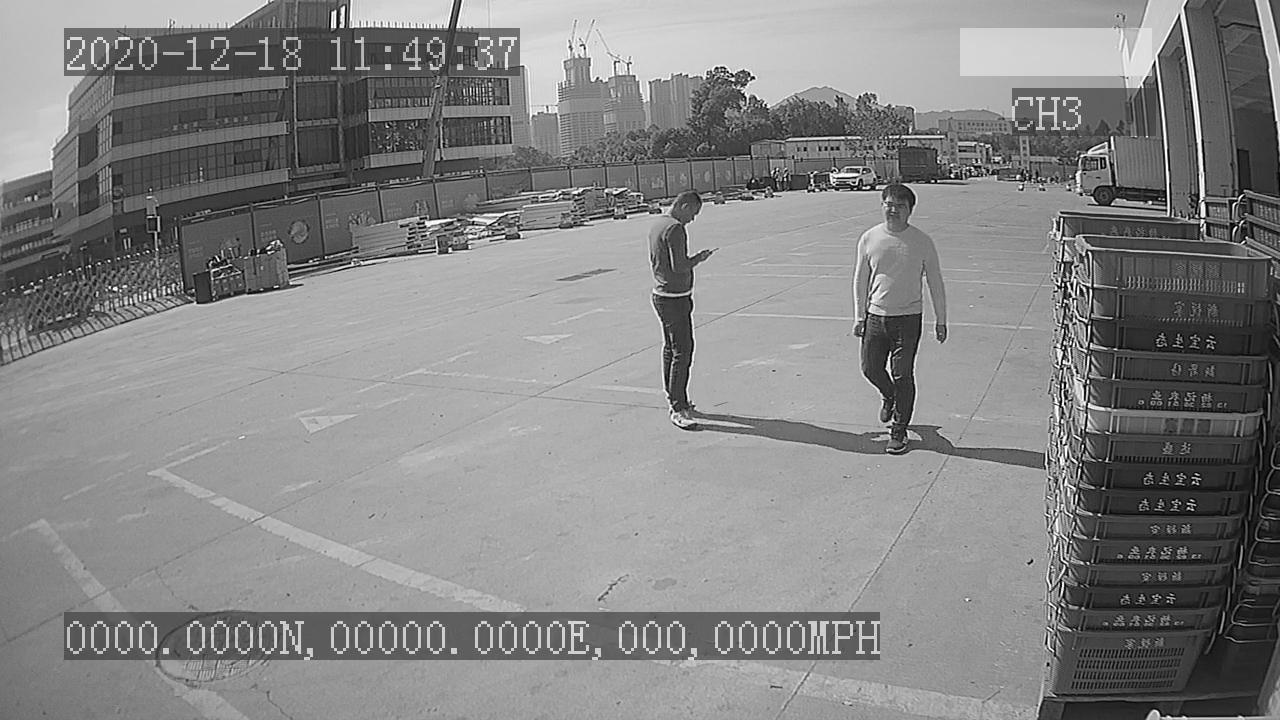person: (849, 176, 951, 458), (642, 186, 717, 435)
